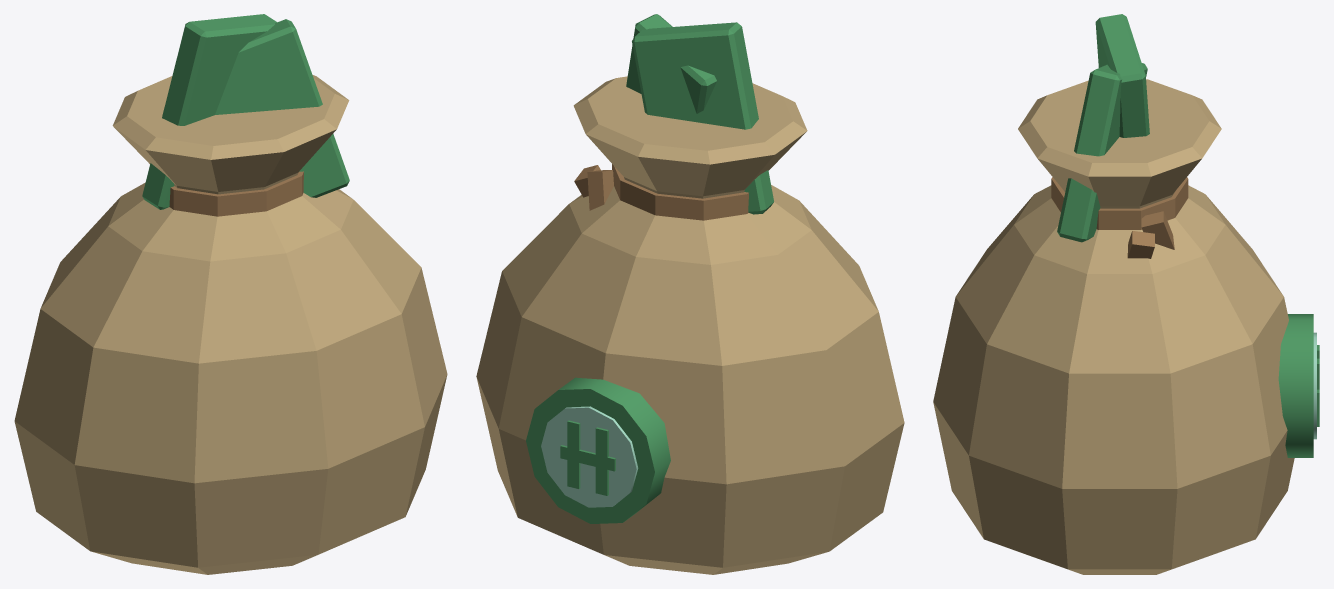
The model's file is cash_bag.glb.
3 views of the same model, side by side, from view 1: azimuth 30°, elevation 25°; view 2: azimuth 150°, elevation 25°; view 3: azimuth 270°, elevation 25° (orthographic). The views are drawn at different scales.
Parts seen in each view (by area): view 1: Body; view 2: Body; view 3: Body.
Part boxes in pixels (left/top/right/bottom): Body: left=14, top=14, right=447, bottom=574; Body: left=476, top=14, right=904, bottom=574; Body: left=933, top=14, right=1319, bottom=574.
Size of the model in its own units: 0.2853 by 0.3713 by 0.2672.
